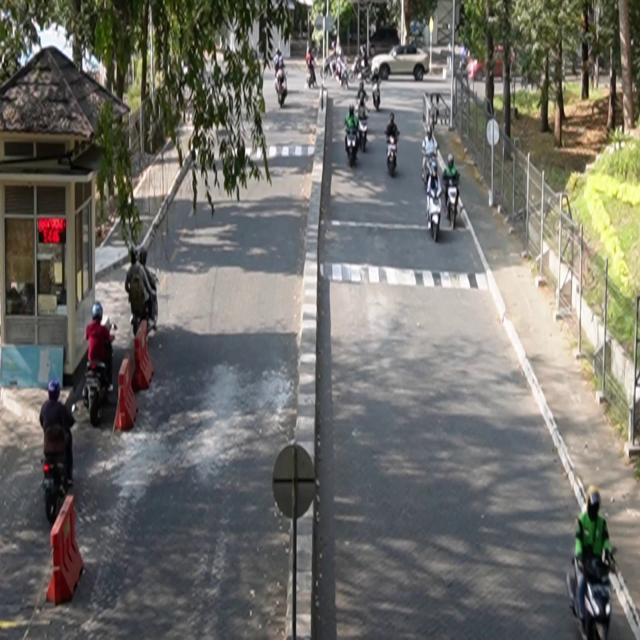car: (371, 44, 431, 82)
